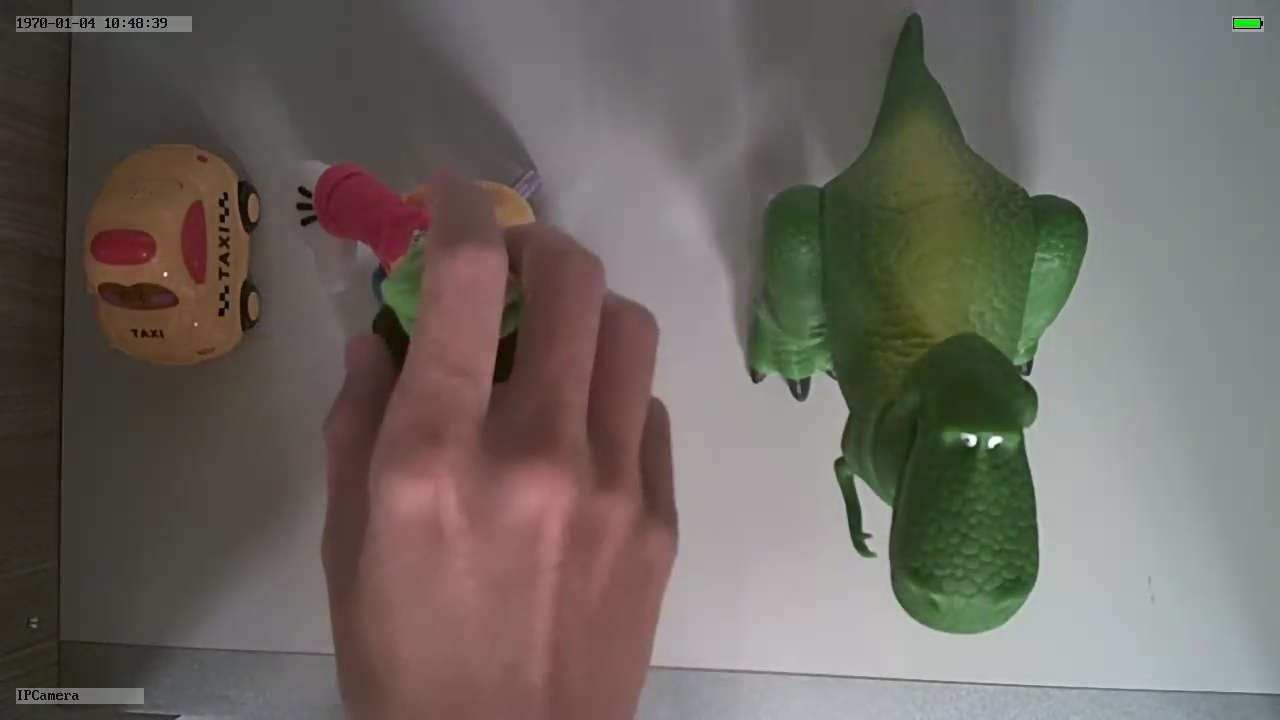car: (80, 137, 264, 373)
rex: (748, 112, 1091, 637)
